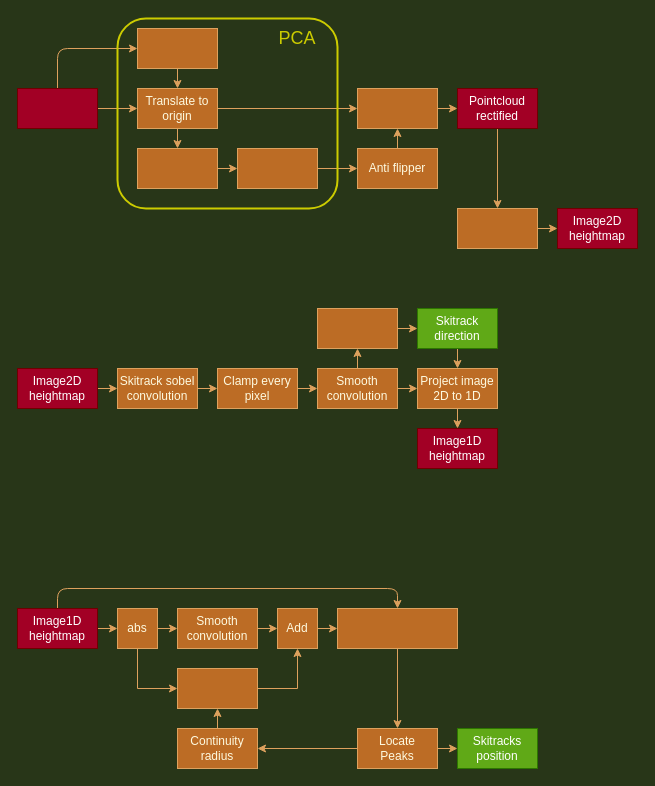
The diagram is 655 pixels wide and 786 high, and some of its shapes have lost their labels. Each missing label, with the centre of its shape:
"Average" goes at point 177,48.
"Coveriance Matrix" goes at point 177,168.
"Eigen vectors" goes at point 277,168.
"Memory Accumulator" goes at point 217,688.
"Most common direction" goes at point 357,328.
"Pointcloud source" goes at point 57,108.
"Rotate" goes at point 397,108.
"Z Projection" goes at point 497,228.
"Zero out feet negative = feet" goes at point 397,628.
